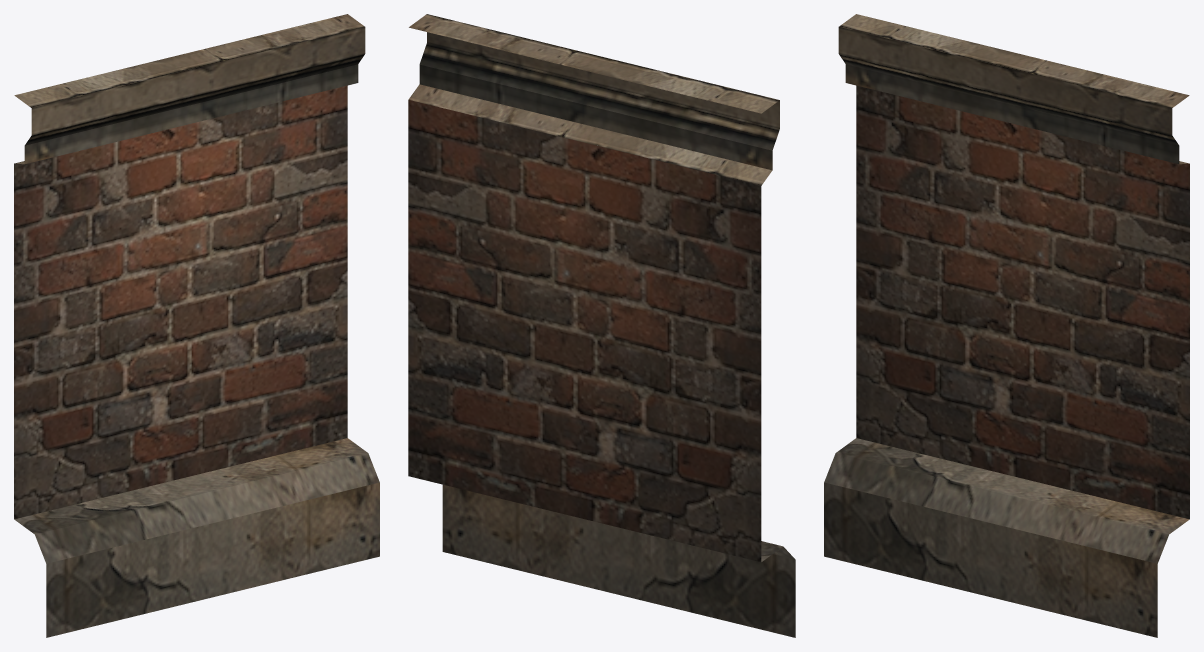
The model's file is wall_brick_3.fbx.
3 views of the same model, side by side, from view 1: azimuth 30°, elevation 25°; view 2: azimuth 150°, elevation 25°; view 3: azimuth 330°, elevation 25° (orthographic). The views are drawn at different scales.
Visible parts, largest first — view 1: wall_brick_3; view 2: wall_brick_3; view 3: wall_brick_3.
Part boxes in pixels (x1=…): wall_brick_3: x1=14, y1=14, x2=379, y2=637; wall_brick_3: x1=408, y1=14, x2=795, y2=637; wall_brick_3: x1=824, y1=14, x2=1189, y2=637.
Bounding box in the file's own units: 3 × 4.46 × 0.5012.
